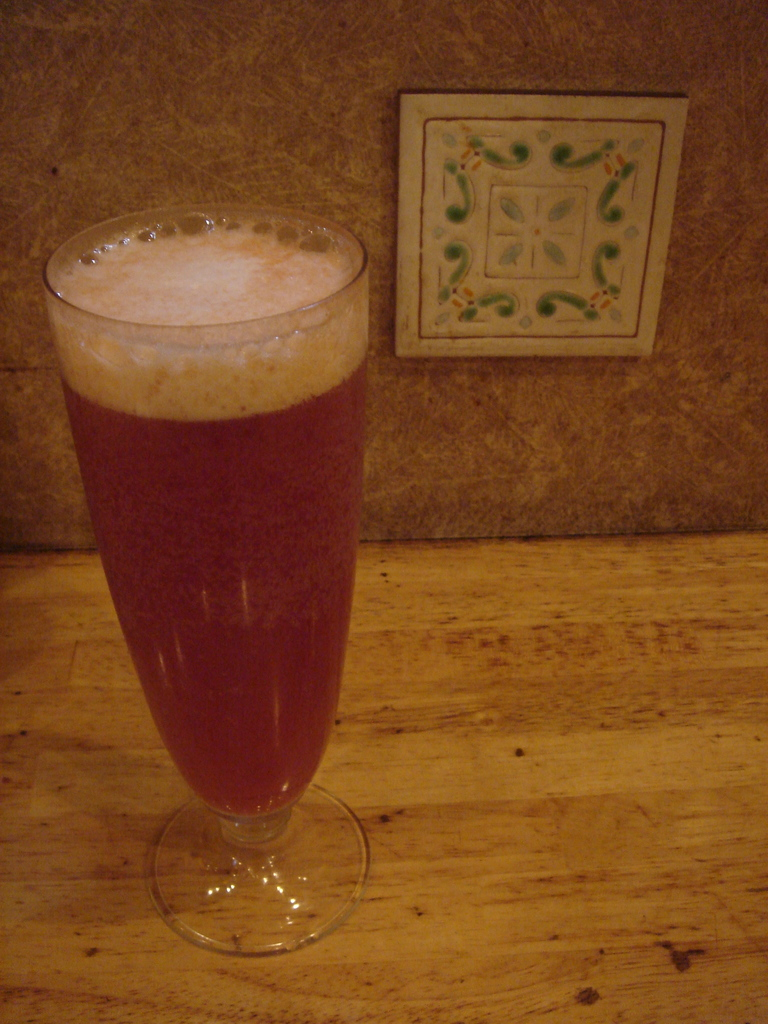Beer: (62, 221, 365, 812)
